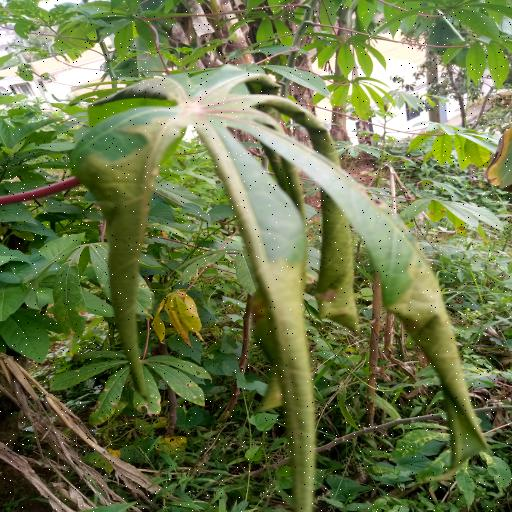Cassava_Root_Rot: (76, 64, 495, 512)
